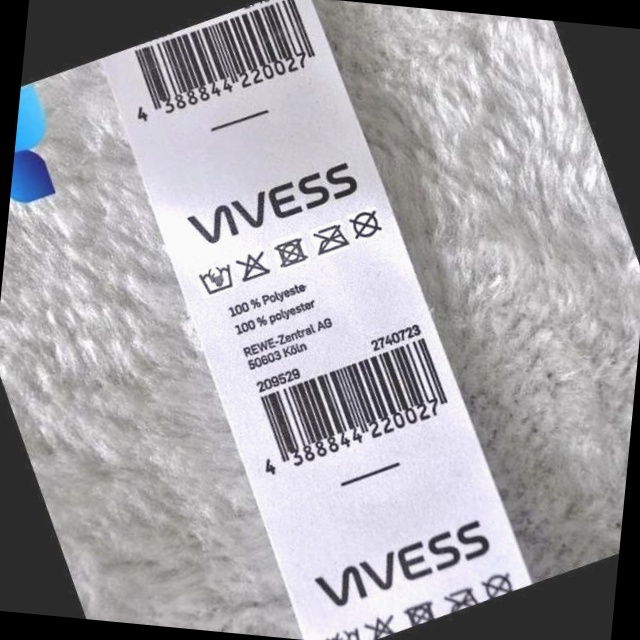DN_bleach: (237, 248, 276, 287)
DN_dry_clean: (348, 204, 384, 244)
DN_iron: (314, 220, 355, 261)
DN_tumble_dry: (273, 235, 311, 275)
hand_wash: (199, 258, 235, 297)
